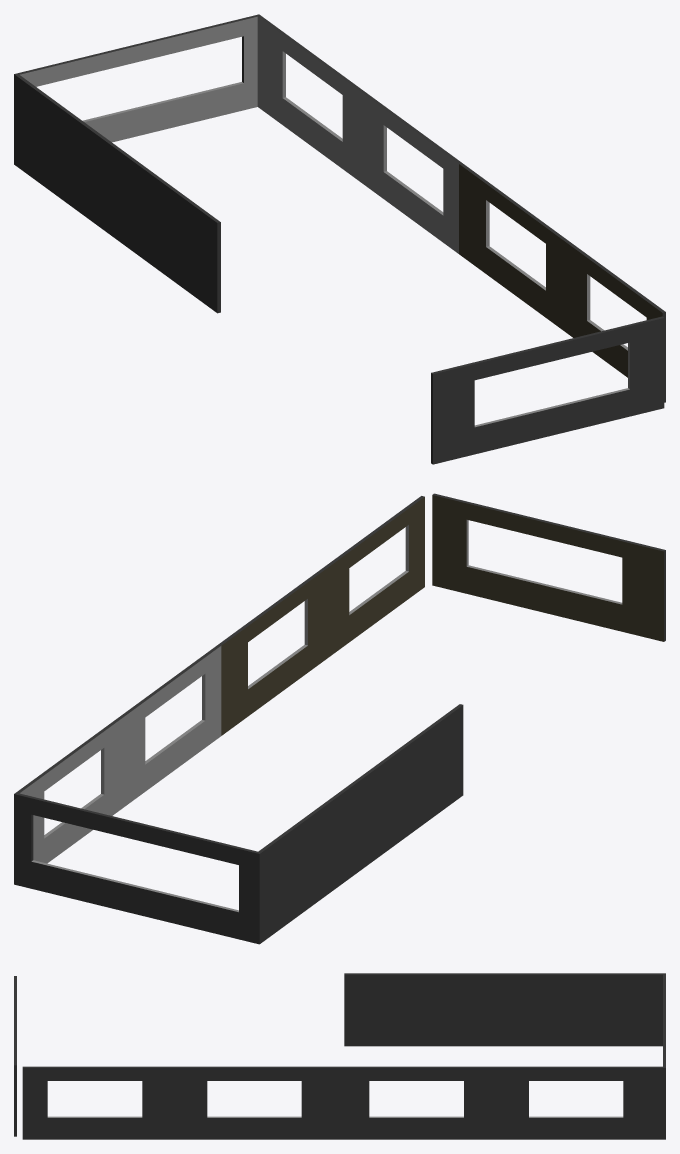
File: LevelMesh.FBX
The picture shows the model from 3 angles, top to bottom: view 1: azimuth 30°, elevation 25°; view 2: azimuth 150°, elevation 25°; view 3: azimuth 270°, elevation 25°; orthographic projection. The views are drawn at different scales.
Parts seen in each view (by area): view 1: LevelMesh; view 2: LevelMesh; view 3: LevelMesh.
Boxes of the visible parts, x1,y1,x2,y2 form: LevelMesh: (14, 14, 665, 464); LevelMesh: (14, 493, 665, 944); LevelMesh: (14, 973, 665, 1139).
Bounding box in the file's own units: 710 × 250 × 2068.
